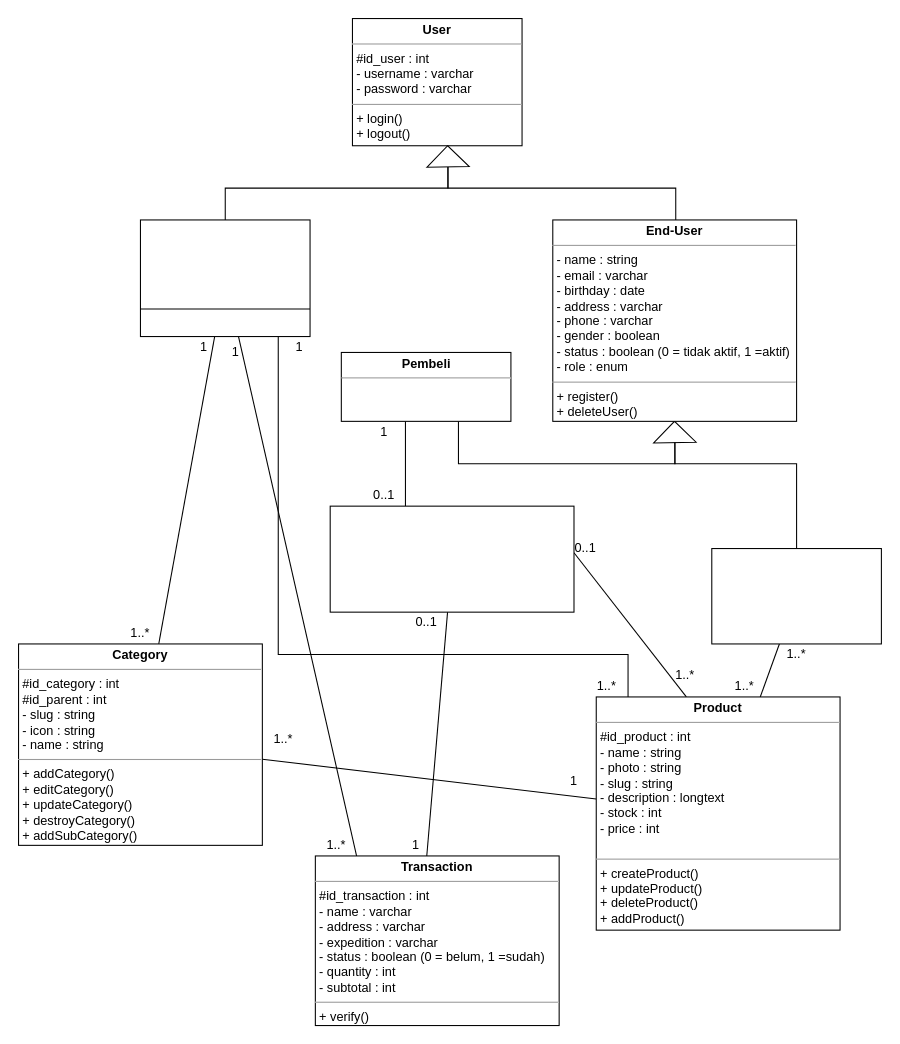
Some shapes in this 900 by 1044 pixel diagram are drawn without their labels. The centre of each missing label's shape, as x and y in pixels:
"Admin + deleteUser()" belongs at (x=224, y=278).
"Keranjang #id_cart : int + updateItem() + checkout()" belongs at (x=451, y=558).
"Supplier + requestAdd()" belongs at (x=796, y=595).
